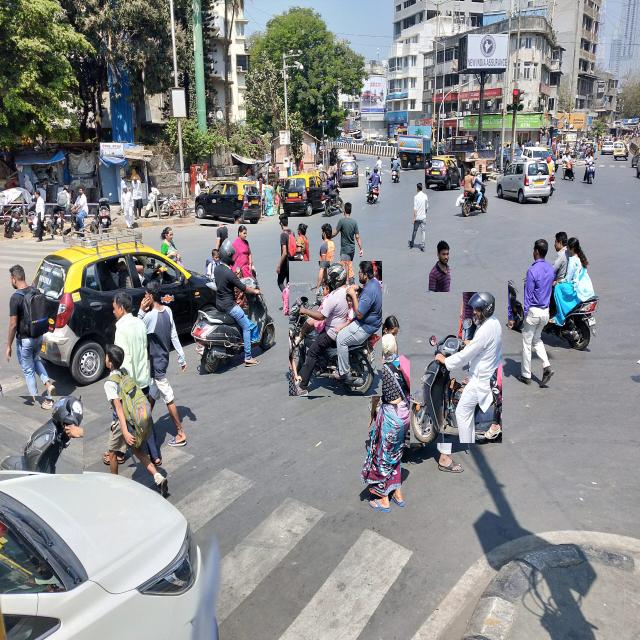bicycle: (62, 189, 99, 234), (160, 193, 191, 218)
car: (0, 472, 201, 638), (34, 230, 215, 383), (195, 182, 262, 224), (496, 158, 551, 203), (282, 173, 324, 217), (425, 156, 461, 189), (520, 147, 555, 177), (339, 160, 359, 187), (614, 142, 628, 159), (601, 140, 615, 155), (375, 138, 388, 145)
motorcycle: (410, 292, 502, 443), (289, 261, 382, 396), (191, 240, 275, 373), (0, 396, 83, 474), (544, 232, 598, 350), (456, 175, 489, 217), (46, 185, 71, 235), (14, 197, 38, 237), (509, 280, 524, 330), (324, 182, 344, 217), (4, 205, 21, 238), (366, 167, 380, 203), (144, 187, 160, 218), (582, 152, 595, 183), (99, 197, 111, 228), (562, 154, 575, 179), (391, 159, 400, 183)
truck: (398, 127, 432, 169)
